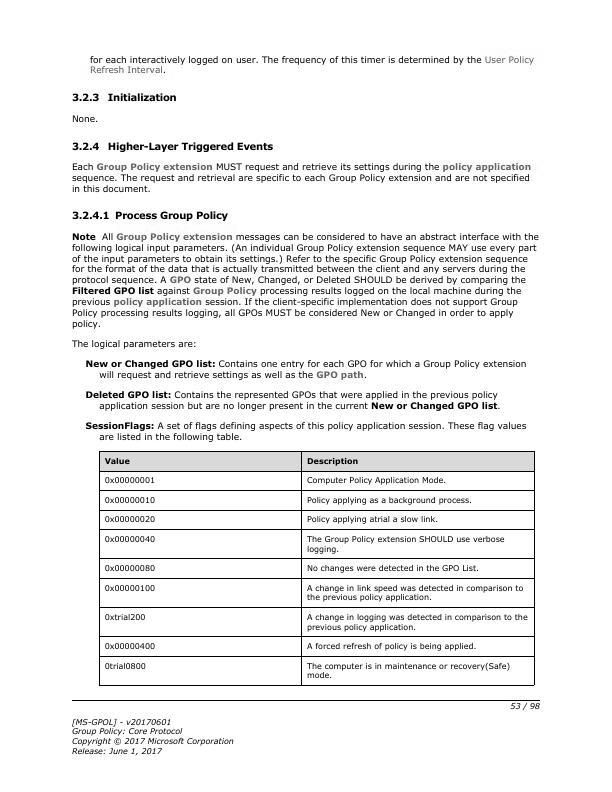table: (98, 452, 535, 686)
text: (71, 230, 540, 331), (70, 161, 532, 196), (83, 419, 528, 443), (83, 358, 527, 380), (84, 389, 502, 412), (87, 54, 536, 75), (68, 715, 236, 756), (71, 139, 276, 153), (69, 209, 231, 222), (70, 336, 197, 349), (69, 90, 177, 105), (68, 113, 100, 123)
